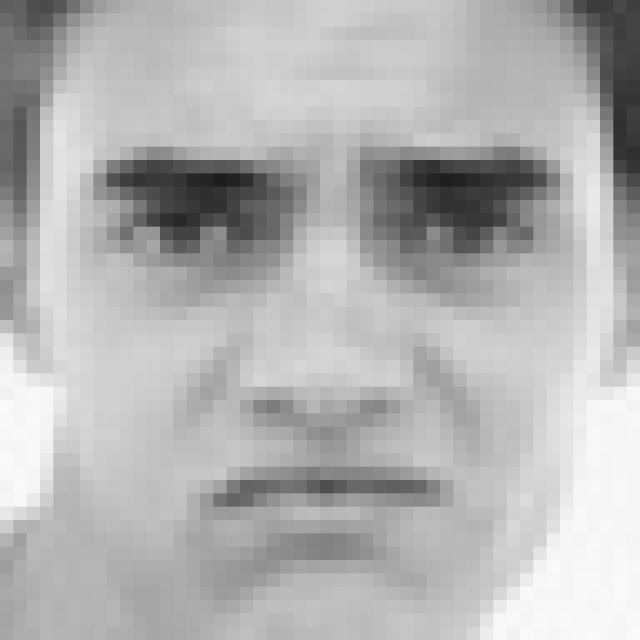disgust: (85, 146, 554, 572)
